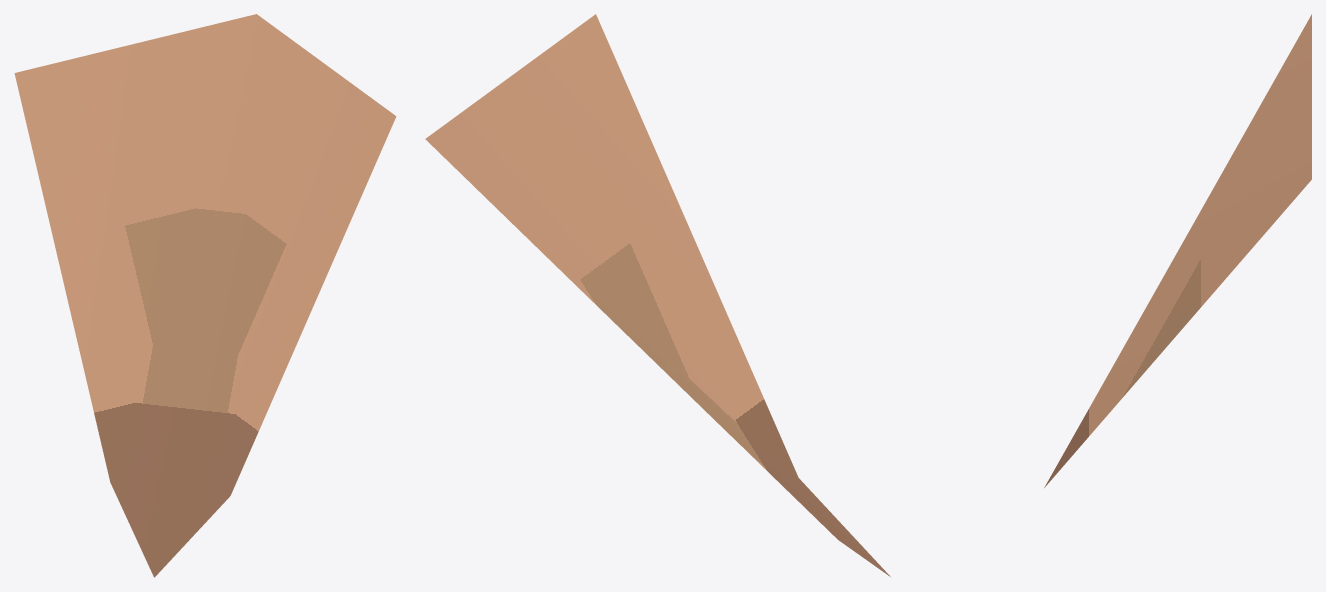
3 renders of one model, left to right at view 1: azimuth 30°, elevation 25°; view 2: azimuth 150°, elevation 25°; view 3: azimuth 270°, elevation 25°, orthographic. The views are drawn at different scales.
Size of the model in its own units: 0.1699 by 0.2699 by 0.1699.
Materials: 1 (1 with a texture image).
